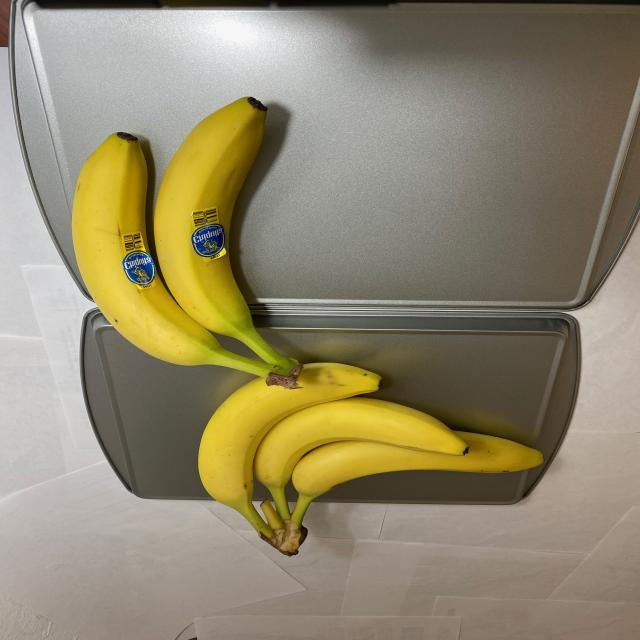banana: (66, 89, 306, 390), (196, 355, 549, 556)
